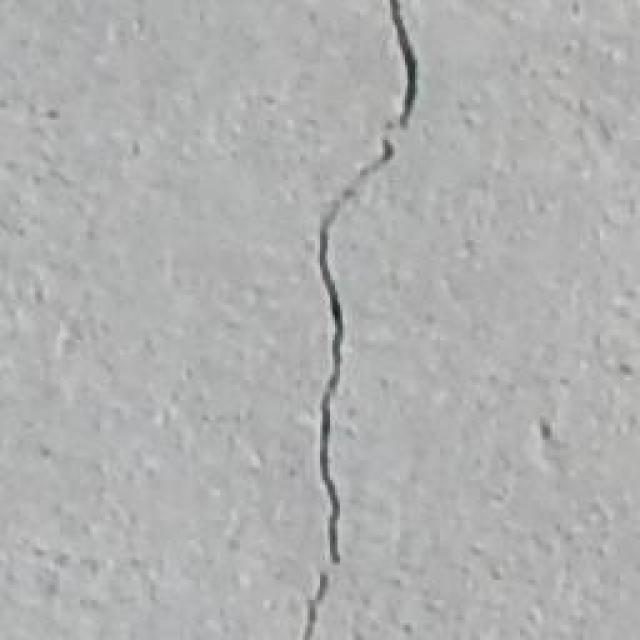concrete-crack: (296, 0, 427, 640)
